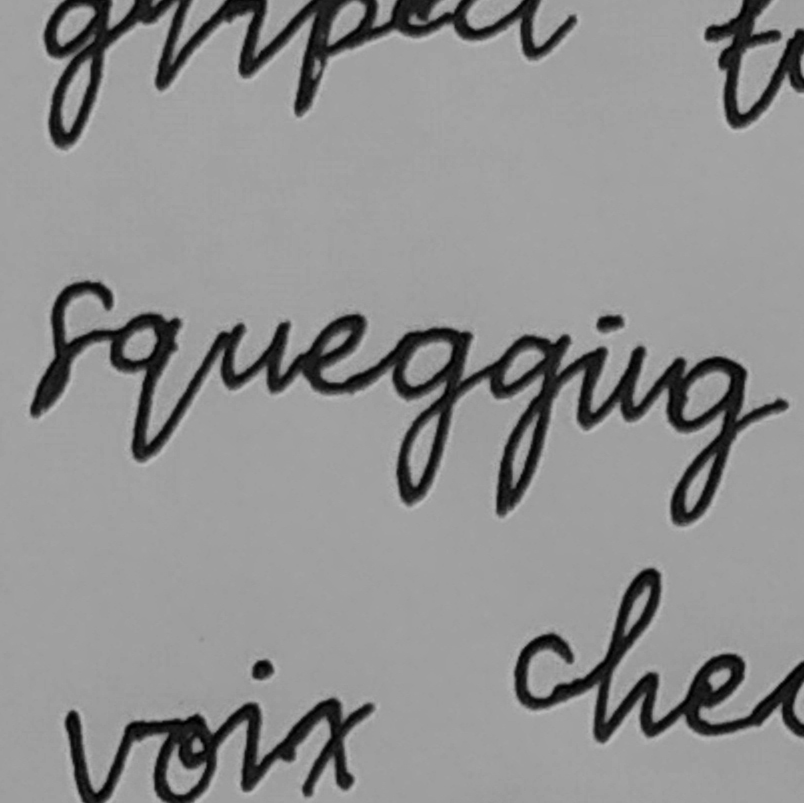e: (298, 307, 373, 400)
g: (378, 318, 476, 509), (482, 328, 574, 522), (664, 352, 753, 529)
i: (573, 310, 629, 430)
n: (612, 342, 691, 434)
q: (106, 309, 190, 467)
s: (22, 274, 118, 422)
u: (211, 313, 294, 397)
